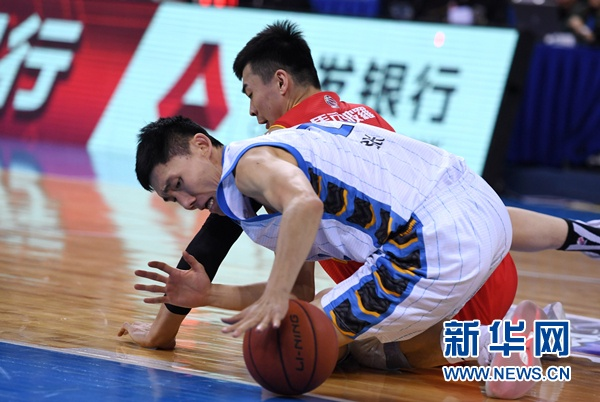falling: (110, 84, 557, 400)
